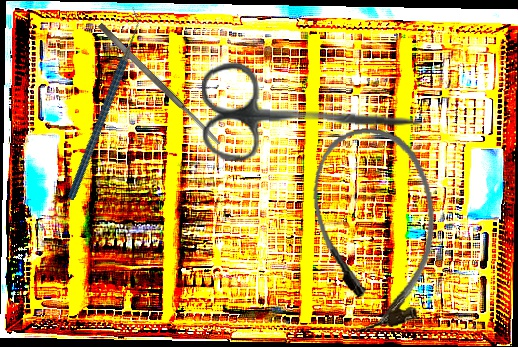Cannula: (303, 120, 449, 337)
Chopper: (12, 6, 193, 201)
Iris Scissors: (199, 61, 426, 168)
Spatula Surgical: (96, 21, 223, 148)
